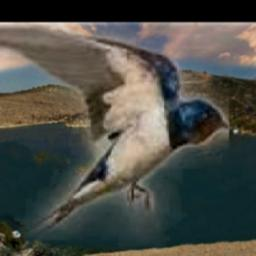Swallow: (0, 24, 229, 256)
